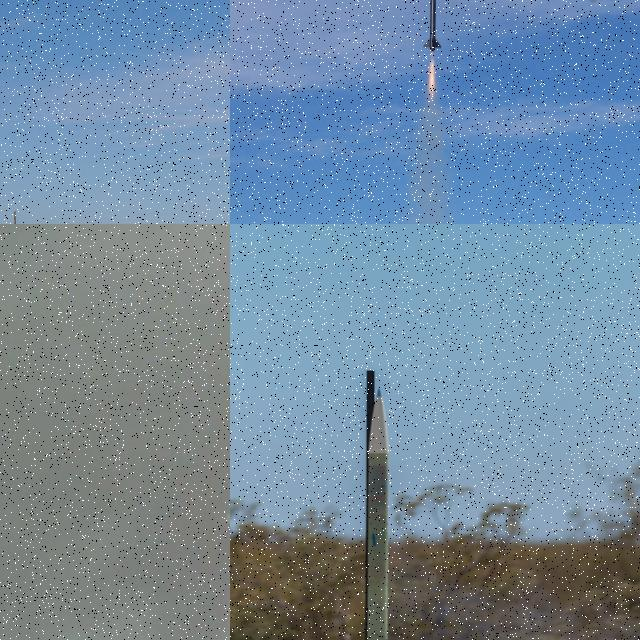Rocket: (345, 387, 397, 640), (422, 0, 442, 52)
